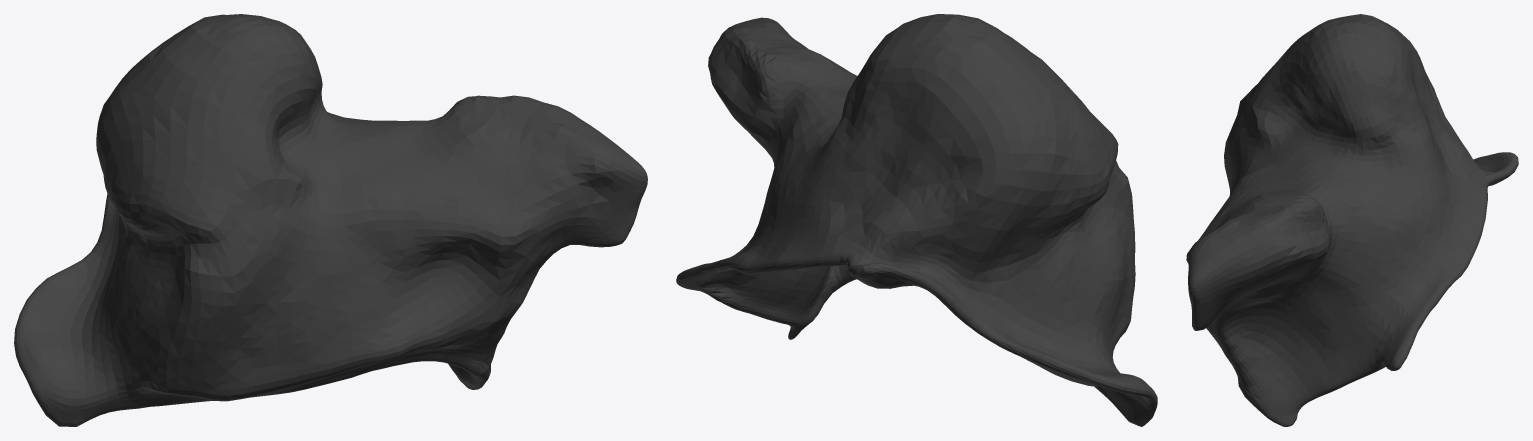
Rendered from FOSSA_head_malleolus_L.glb.
The picture shows the model from 3 angles, left to right: view 1: azimuth 30°, elevation 25°; view 2: azimuth 150°, elevation 25°; view 3: azimuth 270°, elevation 25°; orthographic projection. The views are drawn at different scales.
Parts seen in each view (by area): view 1: FOSSA_head_malleolus_L; view 2: FOSSA_head_malleolus_L; view 3: FOSSA_head_malleolus_L.
Boxes of the visible parts, box(x1,y1,x2,y2) form: FOSSA_head_malleolus_L: box(14, 14, 647, 426); FOSSA_head_malleolus_L: box(676, 14, 1157, 426); FOSSA_head_malleolus_L: box(1186, 14, 1518, 426).
Size of the model in its own units: 2.07 by 1.48 by 1.37.
1 material, 1 textured.
